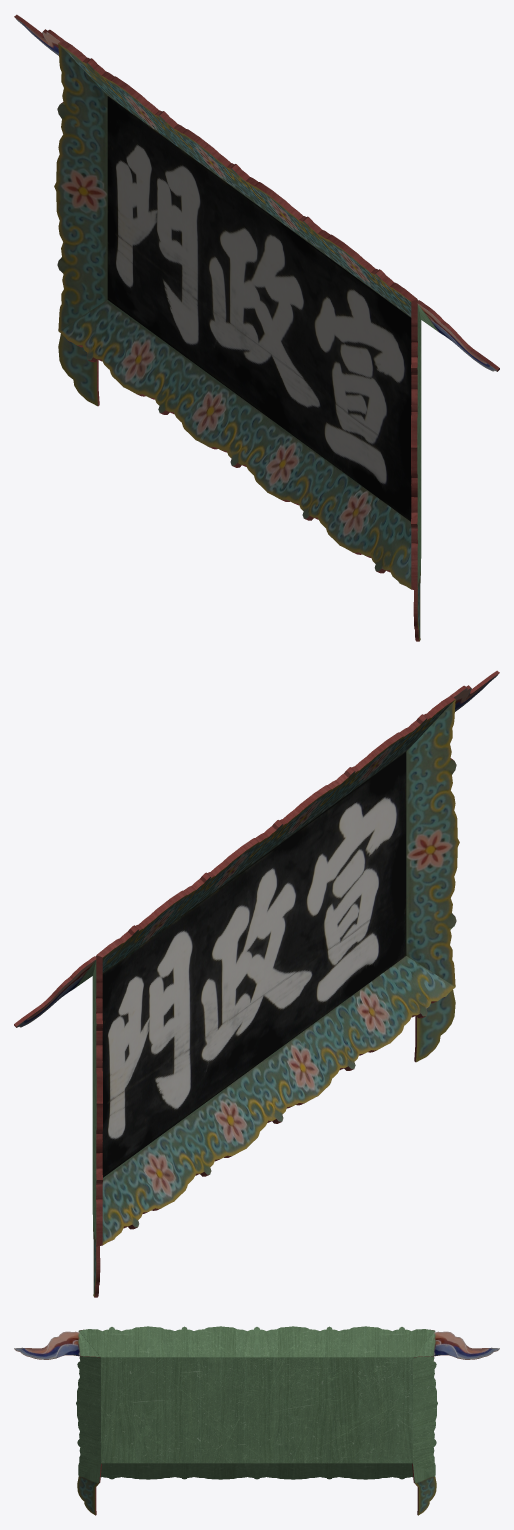
File: SM_Stela06B.fbx
3 views of the same model, one above another, from view 1: azimuth 30°, elevation 25°; view 2: azimuth 150°, elevation 25°; view 3: azimuth 270°, elevation 25° (orthographic). The views are drawn at different scales.
Visible parts, largest first — view 1: SM_Stela06B; view 2: SM_Stela06B; view 3: SM_Stela06B.
Part boxes in pixels (x1,y1,x2,y2): SM_Stela06B: (14, 14, 499, 641); SM_Stela06B: (14, 670, 499, 1297); SM_Stela06B: (14, 1326, 499, 1515).
Bounding box in the file's own units: 11.14 × 247 × 103.
